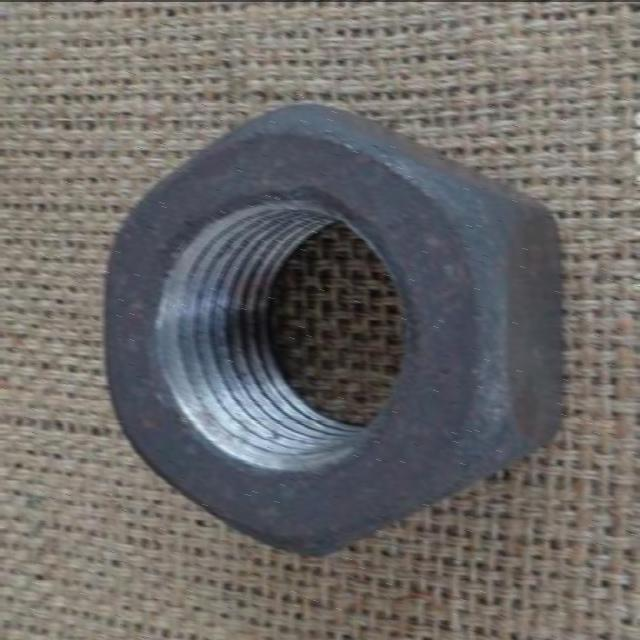Nut: (101, 102, 562, 558)
